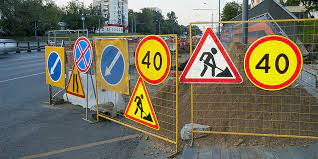1.18.5: (65, 69, 86, 95)
1.23: (178, 31, 242, 82), (118, 79, 162, 130)
